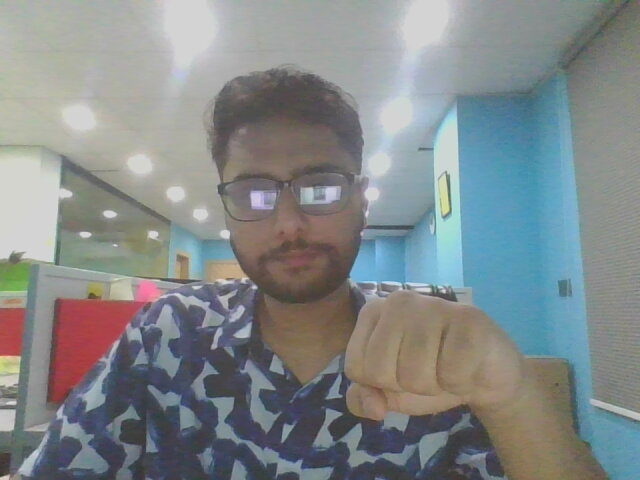yes: (331, 280, 534, 439)
